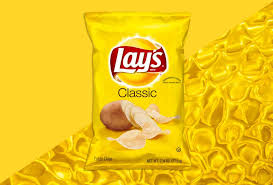lays-small: (83, 12, 191, 168)
